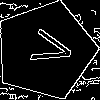V: (20, 25, 76, 70)
